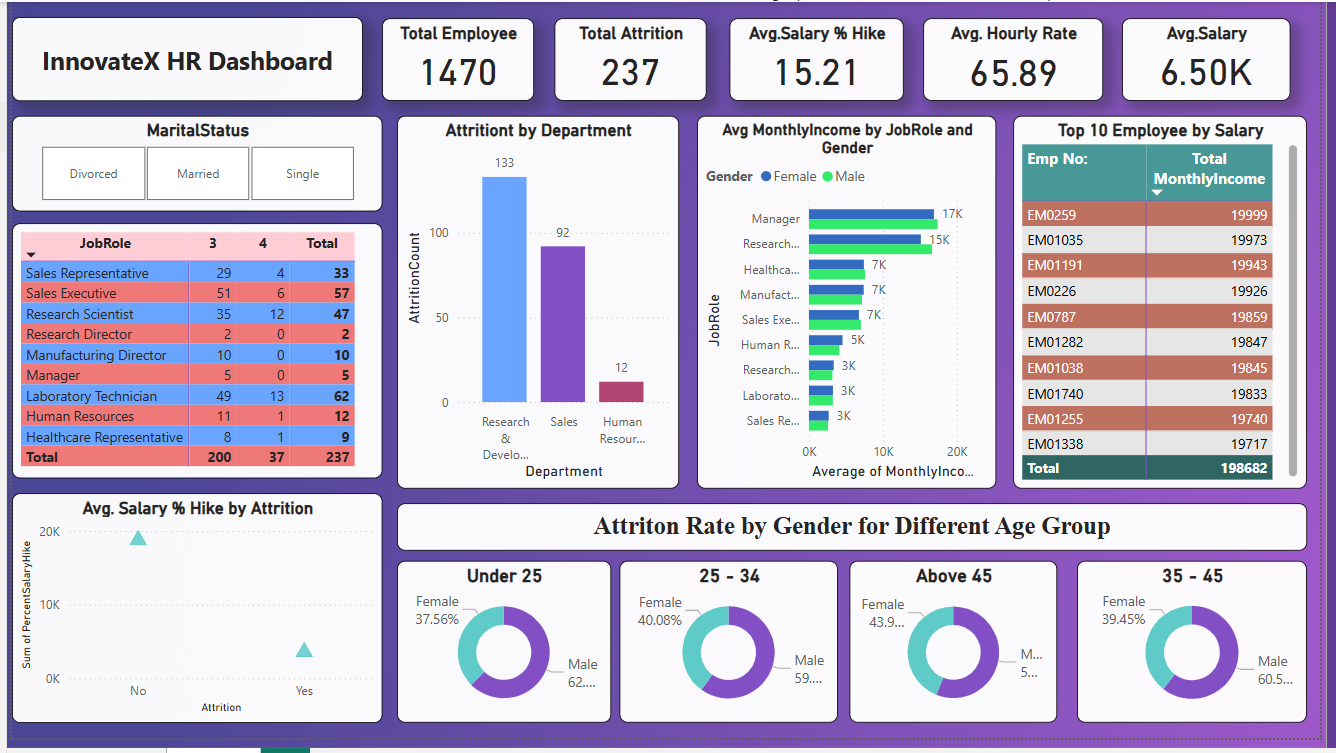

Layout of this report page (visuals, bound fields, positions):
{"tool":"powerbi","page":{"name":"Page 1","canvas":[1280,720],"ordinal":0},"visuals":[{"type":"card","title":"Total Attrition","fields":{"Values":["Sum(Employee_Details.AttritionCount)"]},"box":[531.2,15.9,148.7,80.8],"z":0},{"type":"card","title":"Total Employee","fields":{"Values":["Count(Employee_Details.EmployeeNumber)"]},"box":[362.3,15.9,148.7,80.8],"z":1000},{"type":"card","title":"Avg.Salary % Hike","fields":{"Values":["Avg(Employee_Details.PercentSalaryHike)"]},"box":[701.5,15.9,170.3,80.8],"z":2000},{"type":"card","title":"Avg. Hourly Rate","fields":{"Values":["Avg(Employee_Details.HourlyRate)"]},"box":[892,15.9,176.1,80.8],"z":3000},{"type":"card","title":"Avg.Salary","fields":{"Values":["Avg(Employee_Details.MonthlyIncome)"]},"box":[1085.4,15.9,164.5,80.8],"z":4000},{"type":"textbox","box":[0,14.4,343.5,82.3],"z":5000},{"type":"donutChart","title":"Under 25","fields":{"Y":["Sum(Employee_Details.Age)"],"Category":["Employee_Details.Gender"]},"box":[376.7,547,209.3,158.8],"z":6000},{"type":"donutChart","title":"Above 45","fields":{"Y":["Sum(Employee_Details.Age)"],"Category":["Employee_Details.Gender"]},"box":[819.8,547,203.5,158.8],"z":7000},{"type":"donutChart","title":"35 - 45","fields":{"Y":["Sum(Employee_Details.Age)"],"Category":["Employee_Details.Gender"]},"box":[1042.1,547,225.2,158.8],"z":8000},{"type":"donutChart","title":"25 - 34","fields":{"Y":["Sum(Employee_Details.Age)"],"Category":["Employee_Details.Gender"]},"box":[594.7,547,213.6,158.8],"z":9000},{"type":"scatterChart","title":"Avg. Salary % Hike by Attrition","fields":{"X":["Employee_Details.Attrition"],"Y":["Sum(Employee_Details.PercentSalaryHike)"]},"box":[0,480.7,362.3,225.2],"z":10000},{"type":"columnChart","title":" Attritiont by Department","fields":{"Category":["Employee_Details.Department"],"Y":["Sum(Employee_Details.AttritionCount)"]},"box":[376.7,111.1,275.7,365.2],"z":11000},{"type":"pivotTable","fields":{"Rows":["Employee_Details.JobRole"],"Columns":["Employee_Details.PerformanceRating"],"Values":["Sum(Employee_Details.AttritionCount)"]},"box":[0,216.5,362.3,249.7],"z":12000},{"type":"slicer","title":"MaritalStatus","fields":{"Values":["Employee_Details.MaritalStatus"]},"box":[0,111.1,362.3,93.8],"z":13000},{"type":"clusteredBarChart","title":"Avg MonthlyIncome by JobRole and Gender","fields":{"Category":["Employee_Details.JobRole"],"Series":["Employee_Details.Gender"],"Y":["Avg(Employee_Details.MonthlyIncome)"]},"box":[669.7,111.1,293,365.2],"z":14000},{"type":"textbox","box":[376.7,490.8,890.6,46.2],"z":15000},{"type":"pivotTable","title":"Top 10 Employee by Salary","fields":{"Rows":["Employee_Details.EmployeeNumber"],"Values":["Sum(Employee_Details.MonthlyIncome)"]},"box":[980.1,111.1,287.2,365.2],"z":16000}]}

Visuals, with their boxes in screenshot pixels (x1, y1, x2, y2), scaled from the page's 1280x720 canvas onto the 1336x753 screenshot:
"Total Attrition" card: (x1=554, y1=17, x2=710, y2=101)
"Total Employee" card: (x1=378, y1=17, x2=533, y2=101)
"Avg.Salary % Hike" card: (x1=732, y1=17, x2=910, y2=101)
"Avg. Hourly Rate" card: (x1=931, y1=17, x2=1115, y2=101)
"Avg.Salary" card: (x1=1133, y1=17, x2=1305, y2=101)
textbox: (x1=0, y1=15, x2=359, y2=101)
"Under 25" donutChart: (x1=393, y1=572, x2=612, y2=738)
"Above 45" donutChart: (x1=856, y1=572, x2=1068, y2=738)
"35 - 45" donutChart: (x1=1088, y1=572, x2=1323, y2=738)
"25 - 34" donutChart: (x1=621, y1=572, x2=844, y2=738)
"Avg. Salary % Hike by Attrition" scatterChart: (x1=0, y1=503, x2=378, y2=738)
" Attritiont by Department" columnChart: (x1=393, y1=116, x2=681, y2=498)
pivotTable - Employee_Details.JobRole x Employee_Details.PerformanceRating: (x1=0, y1=226, x2=378, y2=488)
"MaritalStatus" slicer: (x1=0, y1=116, x2=378, y2=214)
"Avg MonthlyIncome by JobRole and Gender" clusteredBarChart: (x1=699, y1=116, x2=1005, y2=498)
textbox: (x1=393, y1=513, x2=1323, y2=562)
"Top 10 Employee by Salary" pivotTable: (x1=1023, y1=116, x2=1323, y2=498)
